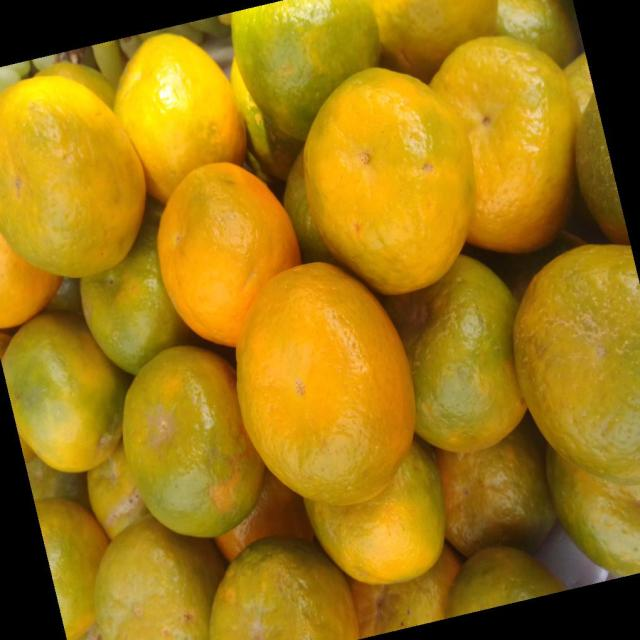fresh orange: (1, 1, 638, 638), (235, 260, 416, 506), (302, 66, 476, 294), (429, 34, 579, 253), (516, 241, 640, 498), (0, 75, 146, 278), (400, 247, 532, 468), (156, 160, 301, 346), (119, 349, 258, 539), (230, 2, 376, 159), (114, 33, 246, 201), (2, 316, 127, 475), (81, 211, 194, 376), (94, 519, 225, 638), (209, 536, 356, 636), (368, 1, 501, 81), (34, 499, 109, 637), (213, 467, 315, 562), (492, 0, 579, 69)
